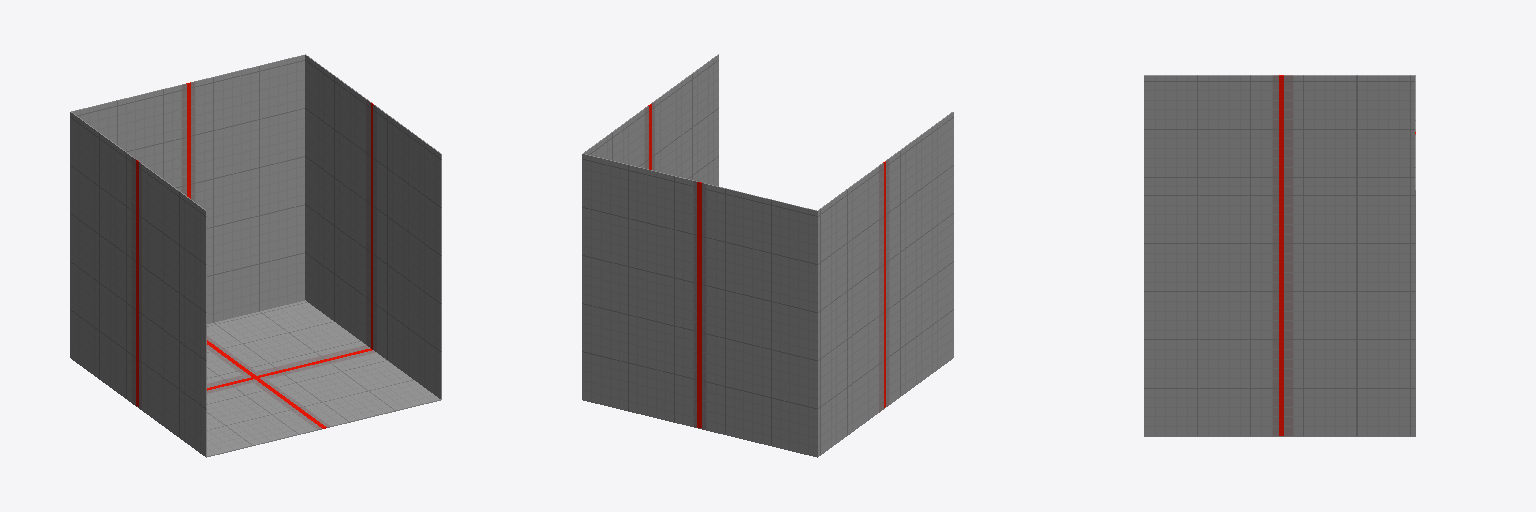
The picture shows the model from 3 angles: view 1: azimuth 30°, elevation 25°; view 2: azimuth 150°, elevation 25°; view 3: azimuth 270°, elevation 25°; orthographic projection.
Parts seen in each view (by area): view 1: object 1; view 2: object 1; view 3: object 1.
Part boxes in pixels (left/top/right/bottom): object 1: left=70, top=54, right=441, bottom=457; object 1: left=582, top=54, right=953, bottom=457; object 1: left=1144, top=75, right=1415, bottom=436.
Bounding box in the file's own units: 25.6 × 25.6 × 25.6.
Materials: 1 (1 with a texture image).